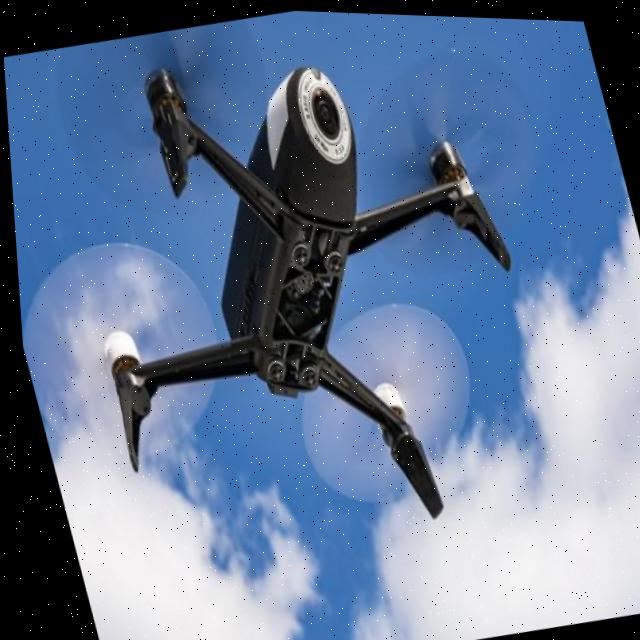drones: (0, 0, 633, 588)
